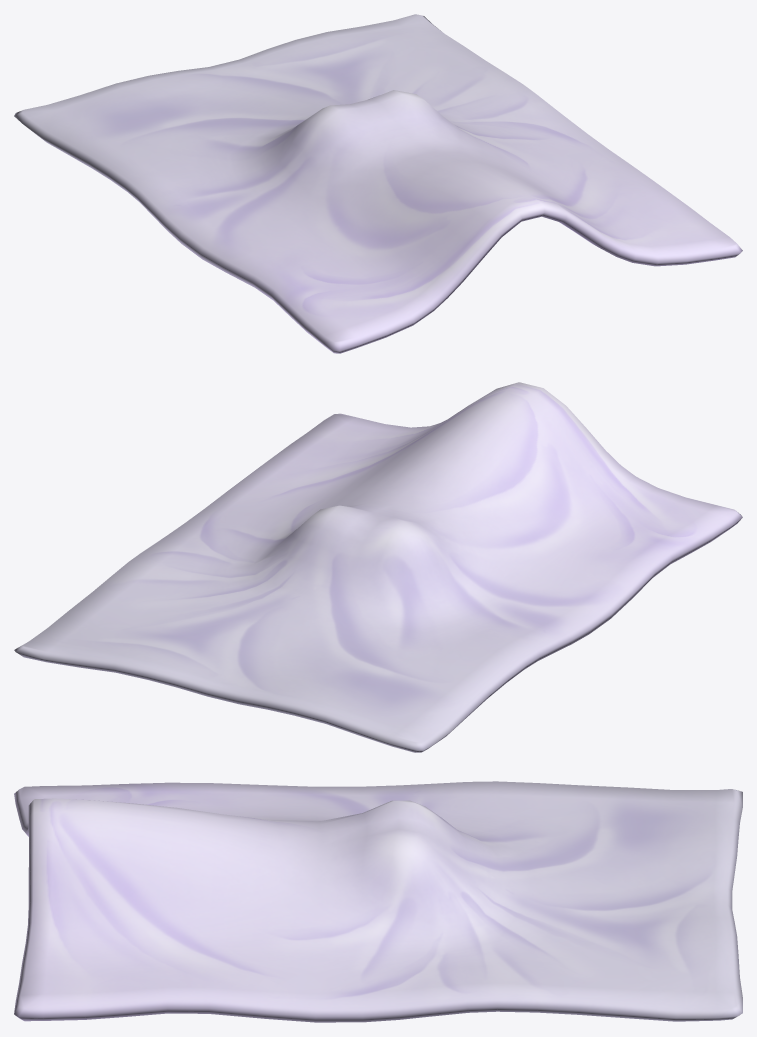
The model's file is Weapon_Beizi_fbx.FBX.
The picture shows the model from 3 angles, top to bottom: view 1: azimuth 30°, elevation 25°; view 2: azimuth 150°, elevation 25°; view 3: azimuth 270°, elevation 25°; orthographic projection. The views are drawn at different scales.
Visible parts, largest first — view 1: BeiZi; view 2: BeiZi; view 3: BeiZi.
Boxes of the visible parts, x1=… form: BeiZi: x1=14, y1=14, x2=742, y2=353; BeiZi: x1=14, y1=382, x2=742, y2=752; BeiZi: x1=14, y1=781, x2=742, y2=1022.
Bounding box in the file's own units: 1.07 × 0.2359 × 1.46.
